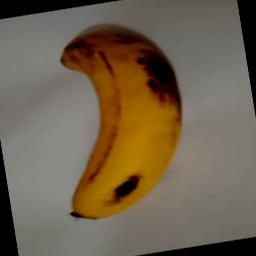Banana Unripe: (42, 20, 200, 226)
